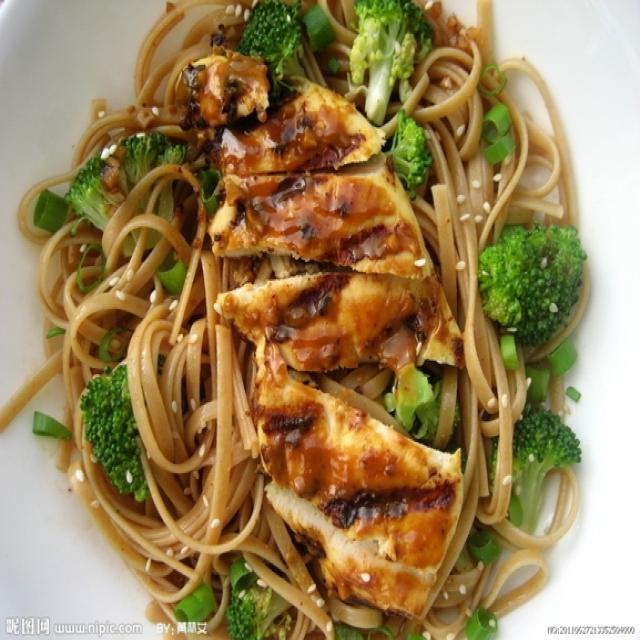面条主食: (11, 4, 613, 626)
